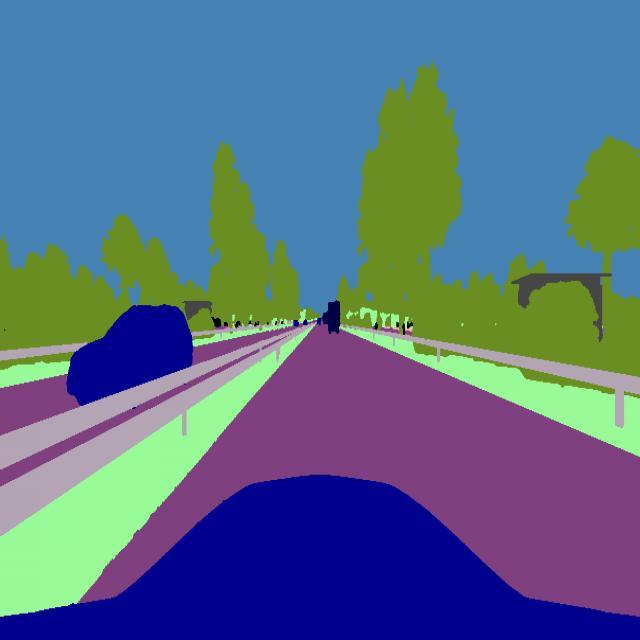safe: (66, 302, 196, 415), (324, 298, 342, 340)
